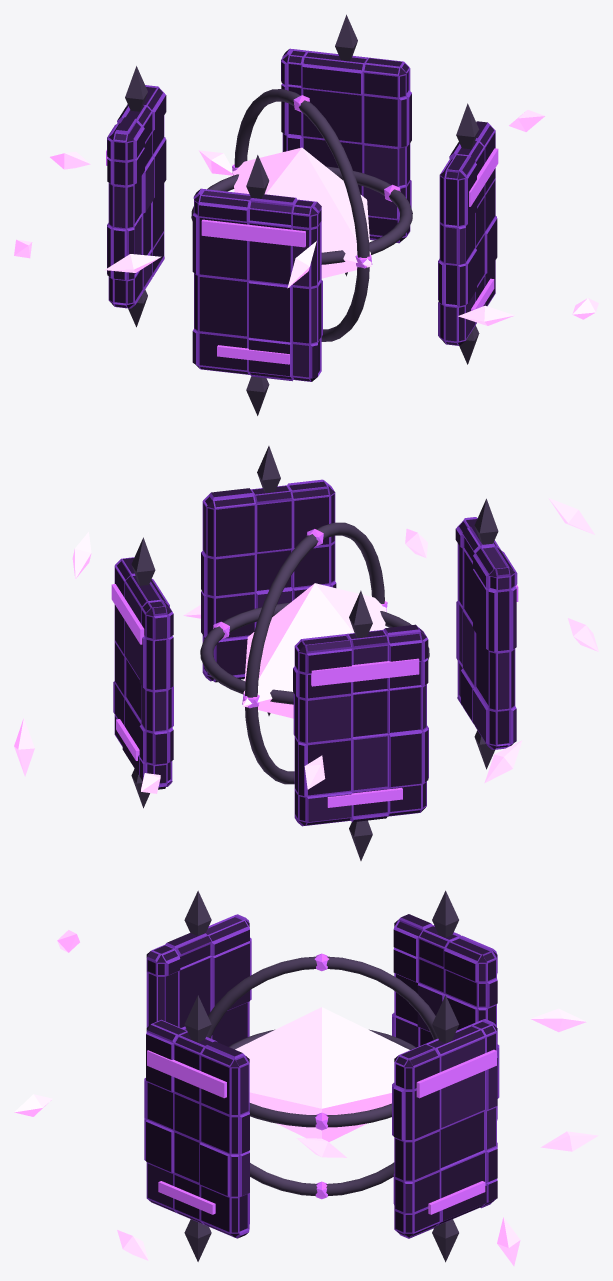
Rendered from sentinel.glb.
The picture shows the model from 3 angles, top to bottom: view 1: azimuth 30°, elevation 25°; view 2: azimuth 150°, elevation 25°; view 3: azimuth 270°, elevation 25°; orthographic projection. The views are drawn at different scales.
Visible parts, largest first — view 1: plates_mesh, core, gimbal0_mesh, shards_mesh, gimbal1_mesh; view 2: plates_mesh, core, gimbal0_mesh, shards_mesh, gimbal1_mesh; view 3: plates_mesh, core, gimbal0_mesh, shards_mesh, gimbal1_mesh.
Boxes of the visible parts, left/top/right/bottom form: plates_mesh: left=106, top=14, right=498, bottom=415; core: left=232, top=147, right=371, bottom=278; gimbal0_mesh: left=232, top=89, right=372, bottom=341; shards_mesh: left=14, top=110, right=598, bottom=325; gimbal1_mesh: left=191, top=166, right=412, bottom=264; plates_mesh: left=111, top=446, right=518, bottom=860; core: left=243, top=583, right=386, bottom=718; gimbal0_mesh: left=242, top=522, right=387, bottom=784; shards_mesh: left=14, top=498, right=598, bottom=793; gimbal1_mesh: left=200, top=603, right=429, bottom=704; plates_mesh: left=144, top=890, right=499, bottom=1262; core: left=235, top=1007, right=409, bottom=1141; gimbal0_mesh: left=206, top=953, right=437, bottom=1199; shards_mesh: left=14, top=930, right=598, bottom=1266; gimbal1_mesh: left=229, top=1029, right=415, bottom=1130.
Bounding box in the file's own units: 10.21 × 5.4 × 10.69.
